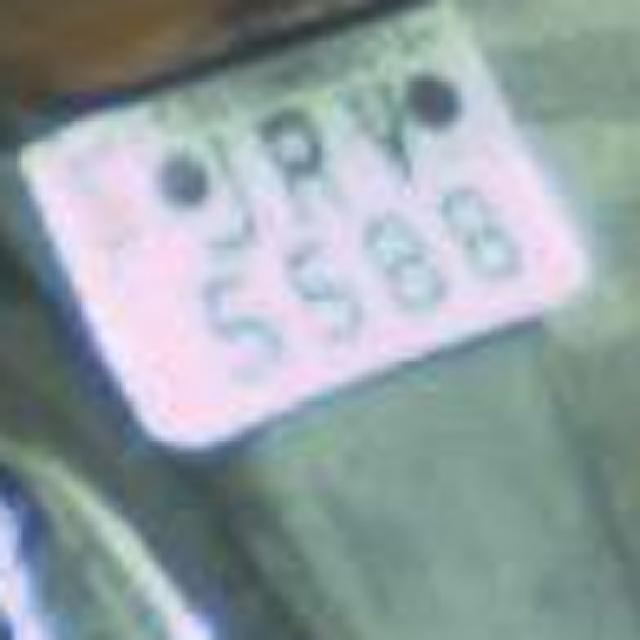5: (180, 244, 300, 404), (269, 220, 376, 348)
6: (428, 168, 544, 292)
8: (352, 192, 468, 320)
P: (248, 108, 348, 232)
